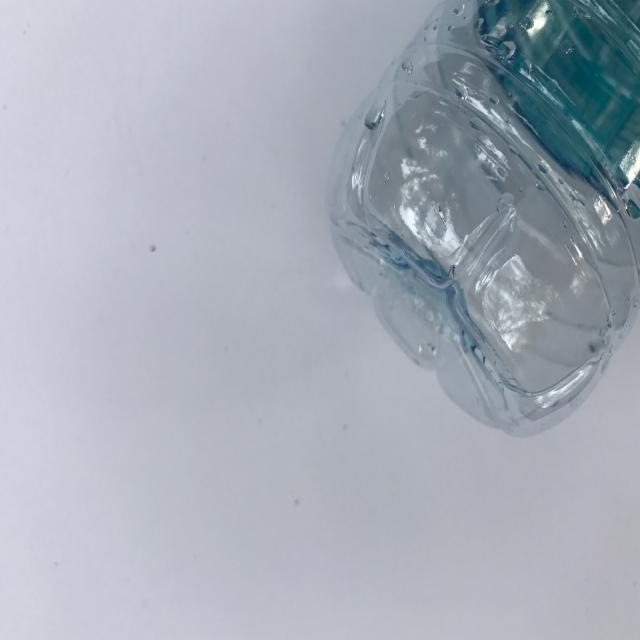plastic: (326, 0, 640, 438)
